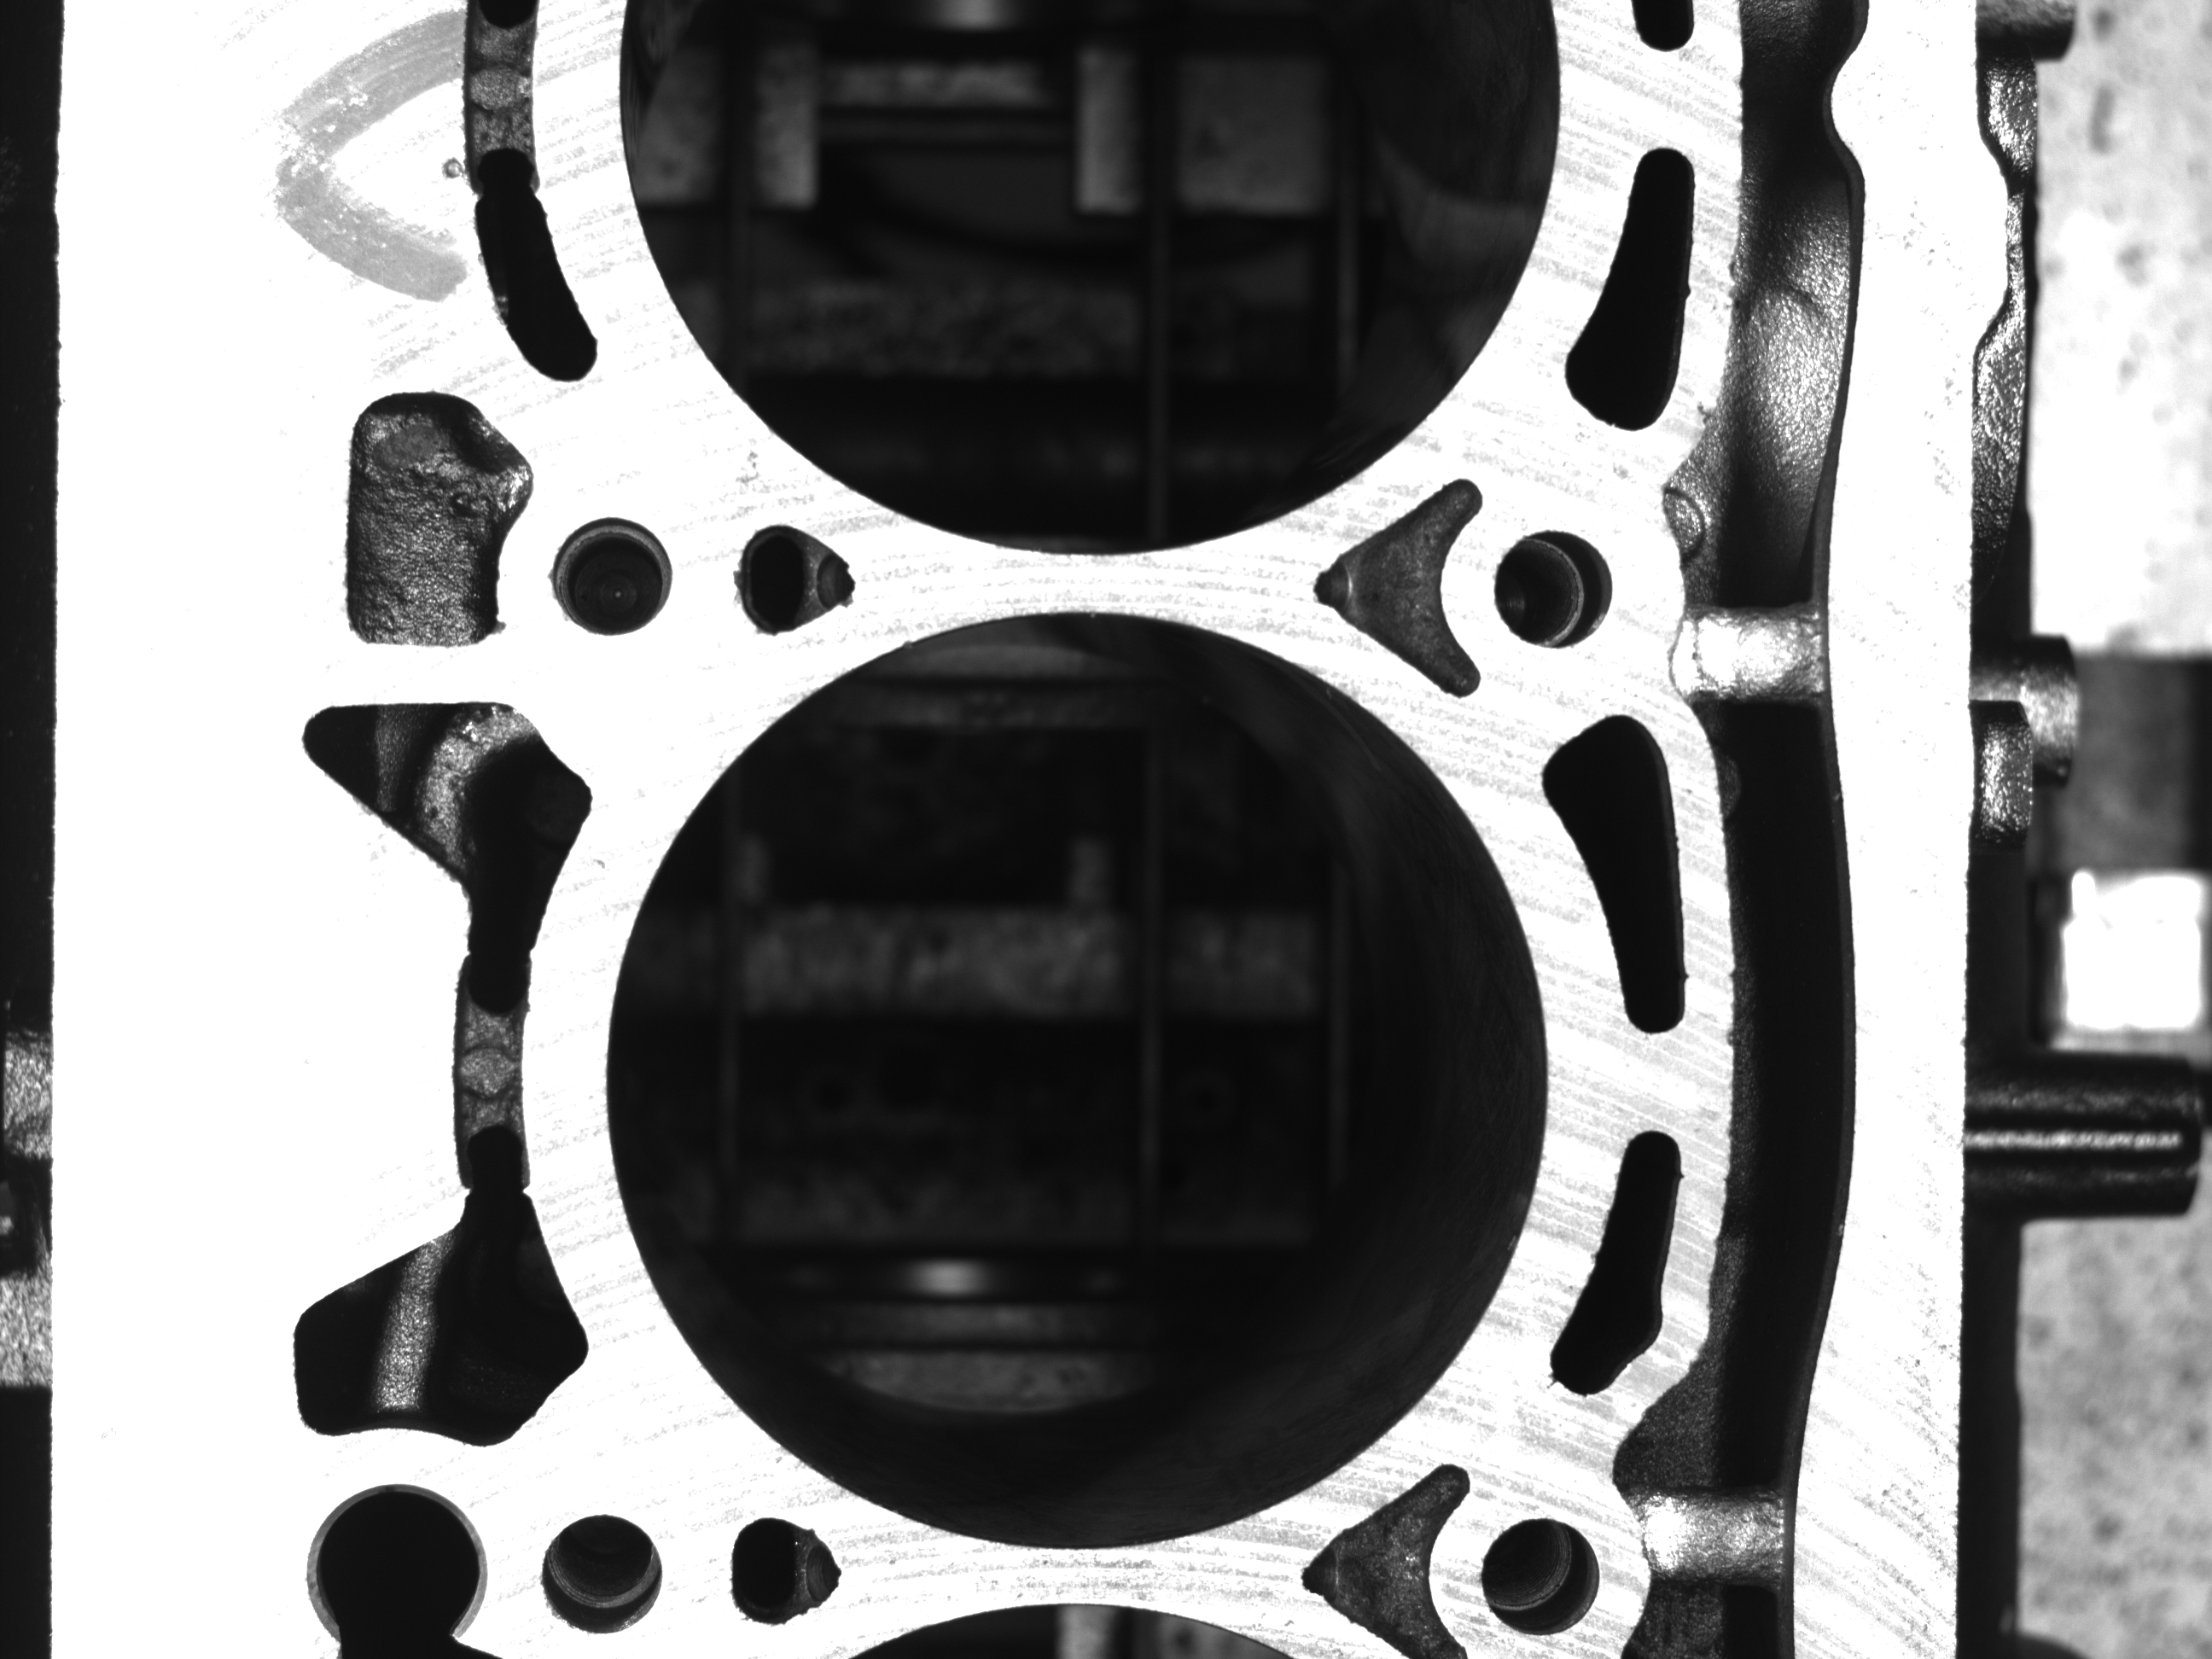crackle: (434, 139, 465, 190)
